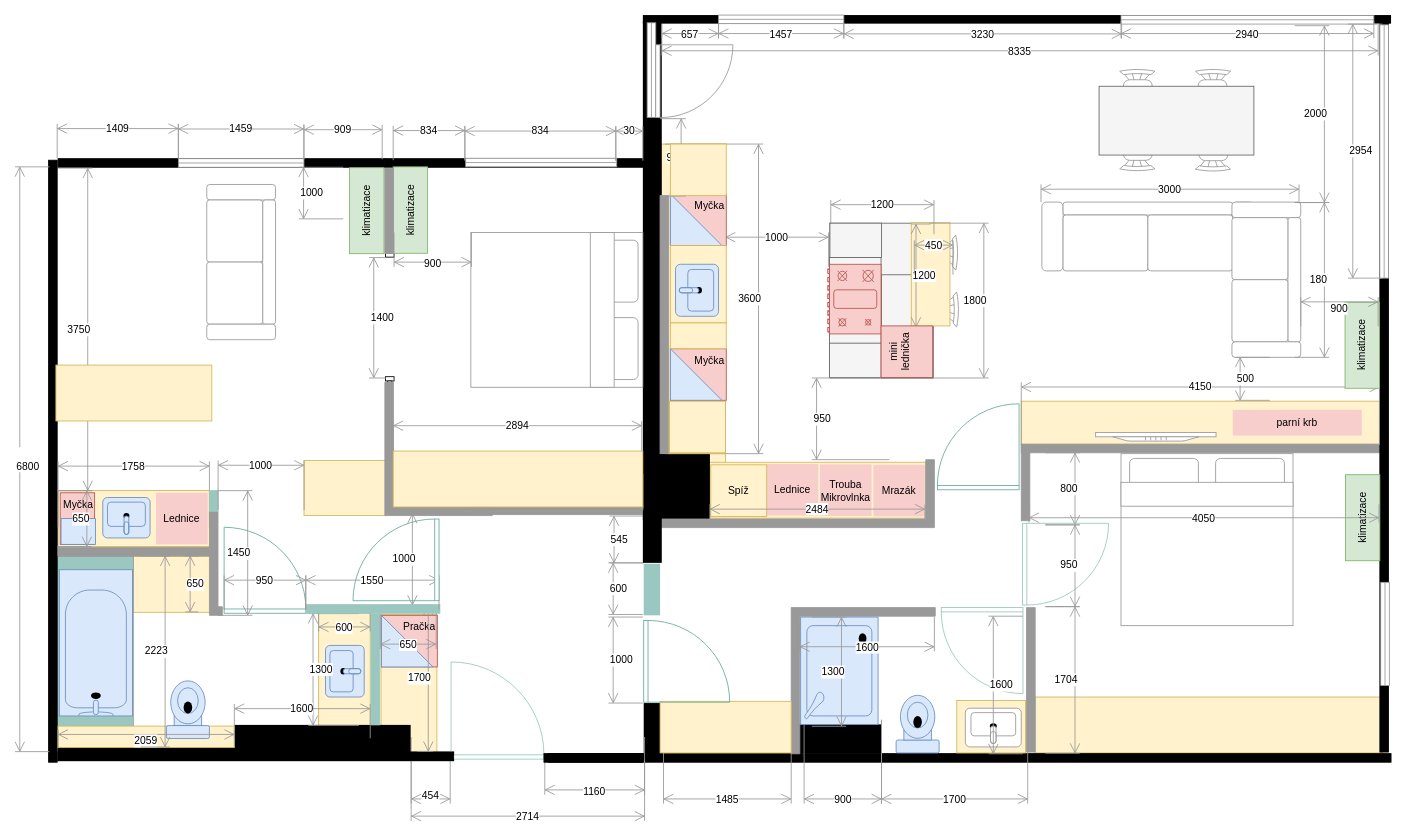
The diagram is 1406 pixels wide and 838 high, and some of its shapes have lost their labels. Each missing label, with the centre of its shape:
"komora" belongs at (725,726).
"skříň" belongs at (1208,724).
"stůl" belongs at (1176,120).
